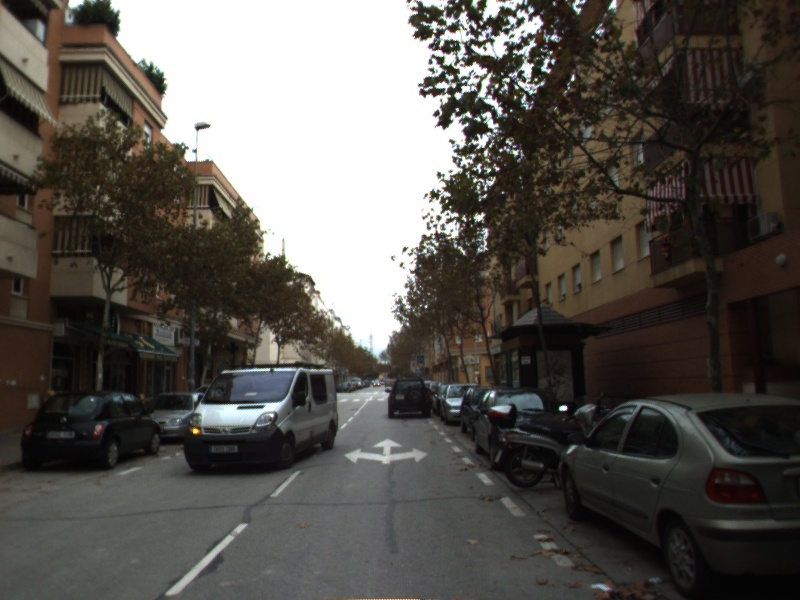STRAIGHT_LEFT_RIGHT: (342, 436, 431, 466)
